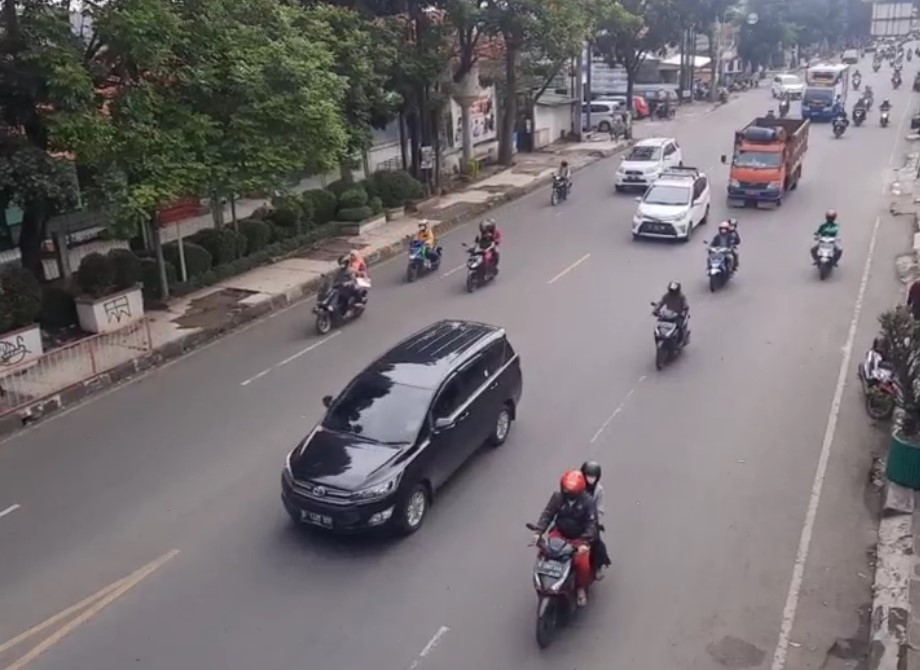motor: (517, 459, 635, 649), (641, 275, 701, 373), (313, 251, 372, 327), (458, 219, 515, 293), (700, 218, 743, 298), (808, 208, 846, 286), (398, 222, 446, 276), (541, 156, 576, 208)
